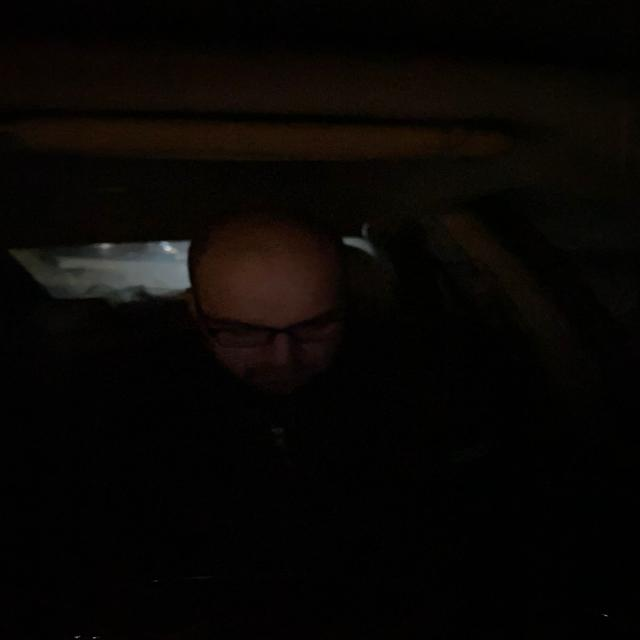drowsy: (183, 206, 361, 400)
